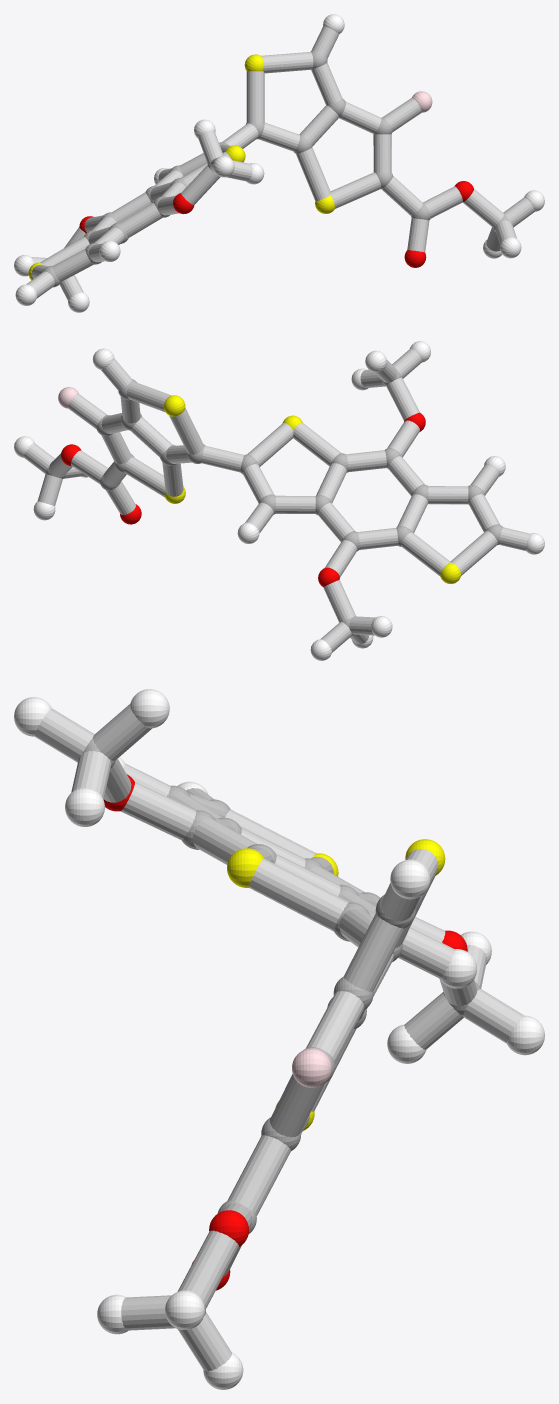
Rendered from Dimethoxy_Benzodithiophene_Phi_25_Theta_90_Methylcarbonyl_3_Fluoro_Thienothiophene.glb.
The picture shows the model from 3 angles, top to bottom: view 1: azimuth 30°, elevation 25°; view 2: azimuth 150°, elevation 25°; view 3: azimuth 270°, elevation 25°; orthographic projection. The views are drawn at different scales.
Visible parts, largest first — view 1: grp15205, grp8689, grp1, grp13395, grp7241; view 2: grp15205, grp8689, grp1, grp7241, grp13395; view 3: grp15205, grp8689, grp1, grp7241, grp13395, grp14843.
Part boxes in pixels (bbox=[...]): grp15205: bbox=[26, 26, 534, 300]; grp8689: bbox=[14, 14, 544, 312]; grp1: bbox=[42, 51, 510, 287]; grp13395: bbox=[79, 181, 473, 267]; grp7241: bbox=[28, 54, 335, 280]; grp15205: bbox=[24, 348, 529, 652]; grp8689: bbox=[14, 341, 544, 660]; grp1: bbox=[45, 370, 502, 635]; grp7241: bbox=[164, 395, 461, 583]; grp13395: bbox=[61, 412, 425, 586]; grp15205: bbox=[34, 703, 523, 1371]; grp8689: bbox=[14, 689, 544, 1389]; grp1: bbox=[82, 737, 480, 1329]; grp7241: bbox=[227, 839, 445, 1130]; grp13395: bbox=[103, 774, 467, 1290]; grp14843: bbox=[292, 1048, 331, 1087].
Bounding box in the file's own units: 16.78 × 7.13 × 7.96.
